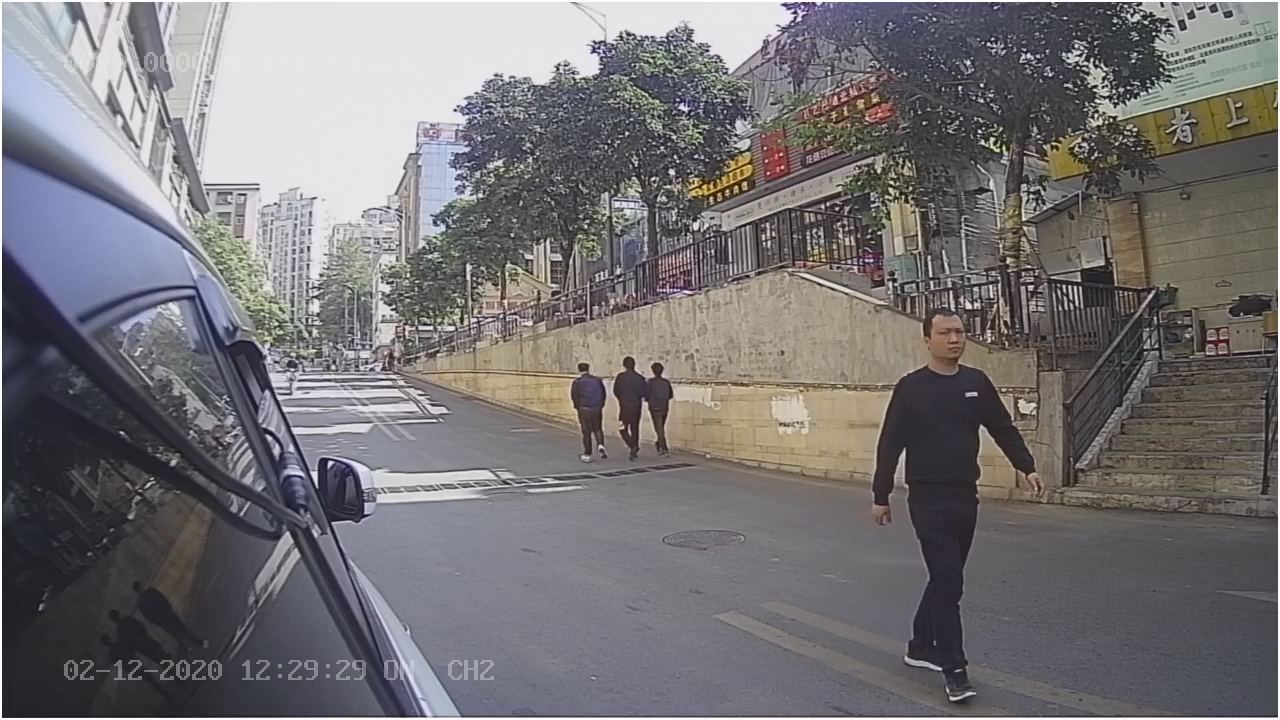person: (868, 309, 1043, 704)
